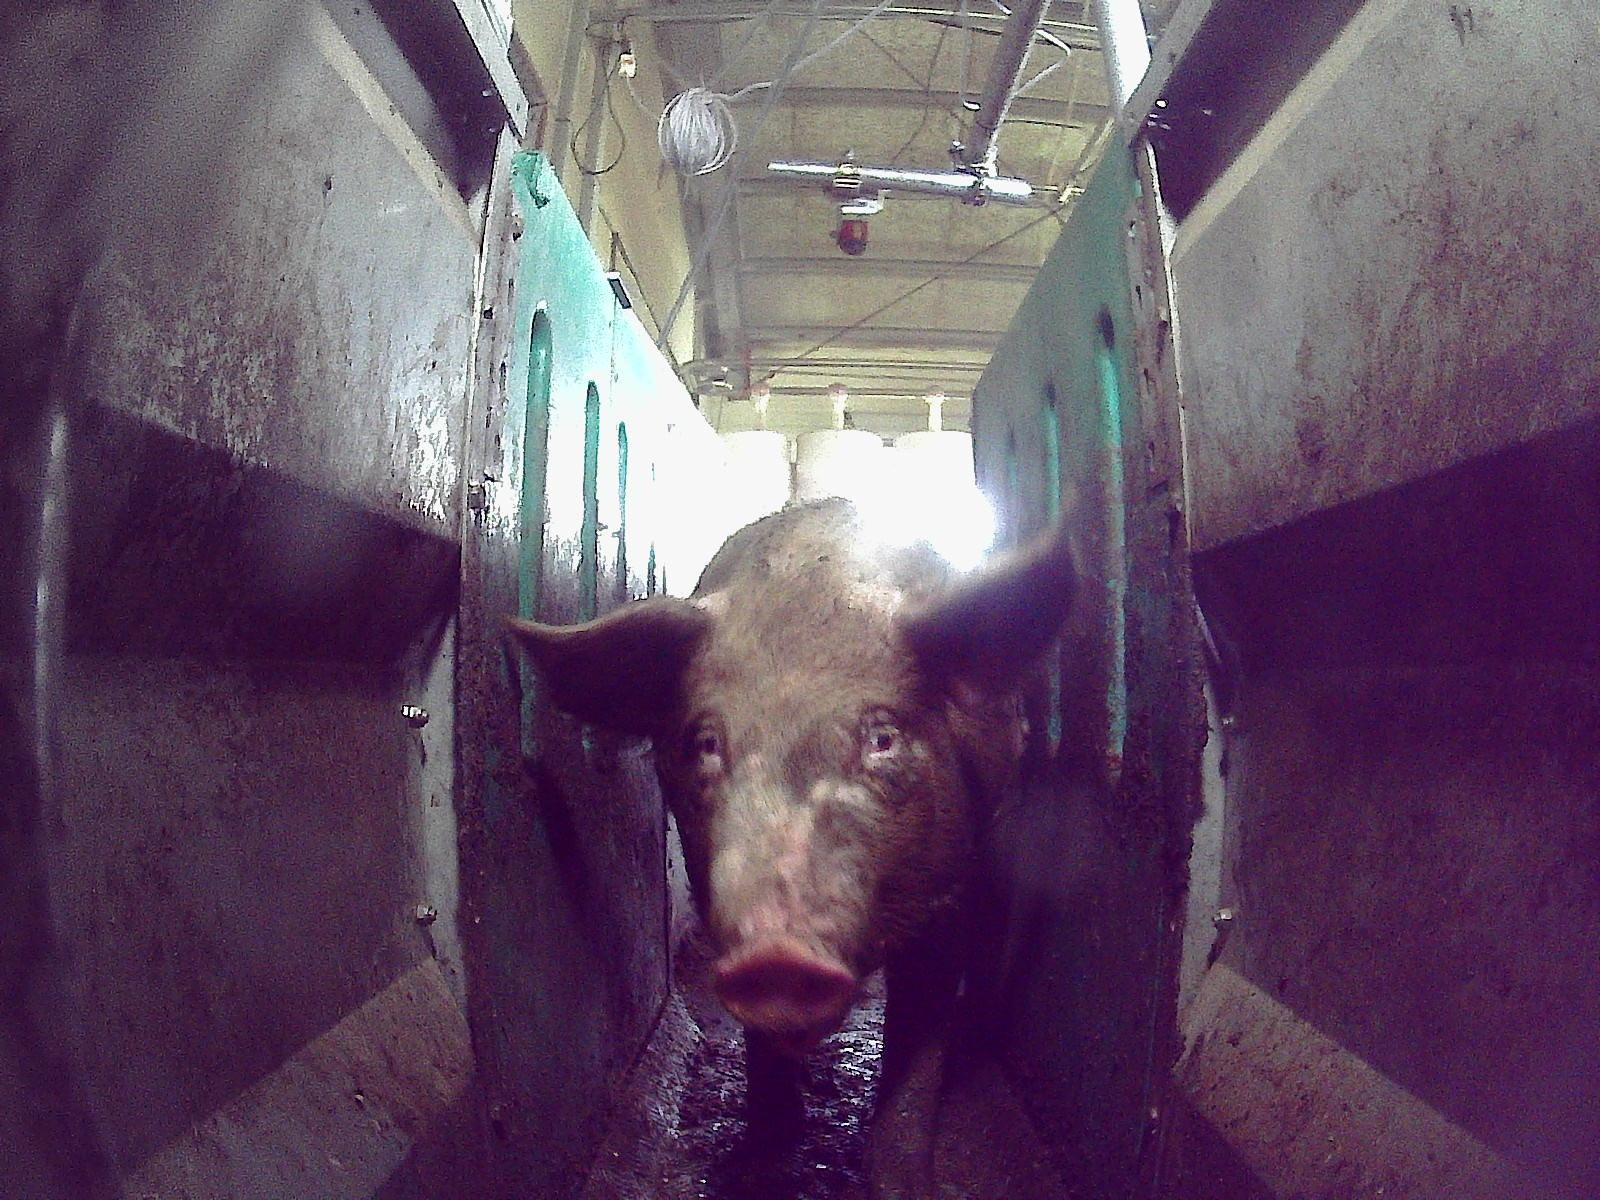Face: (647, 578, 965, 1053)
